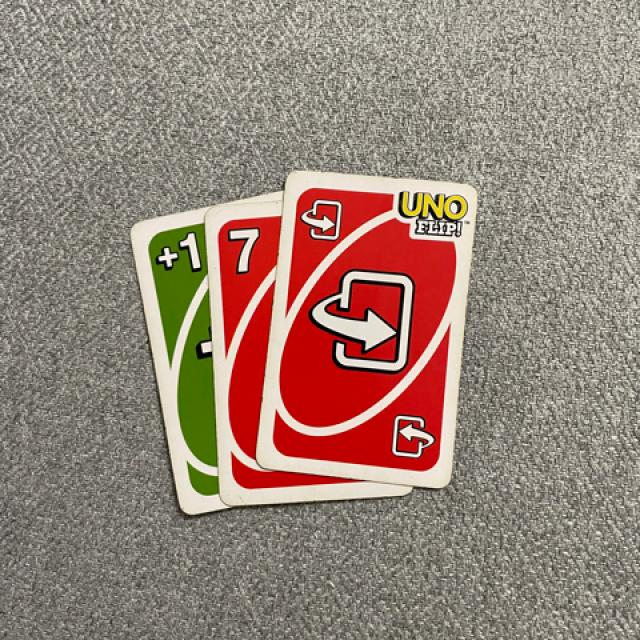lred-7: (217, 221, 272, 288)
